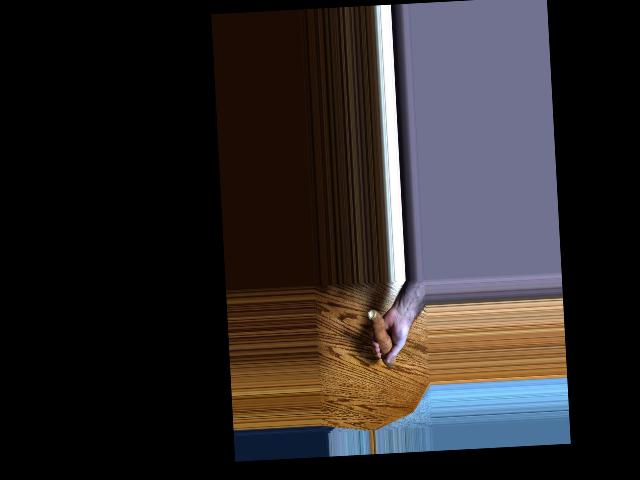sweet_potato: (368, 305, 395, 369)
